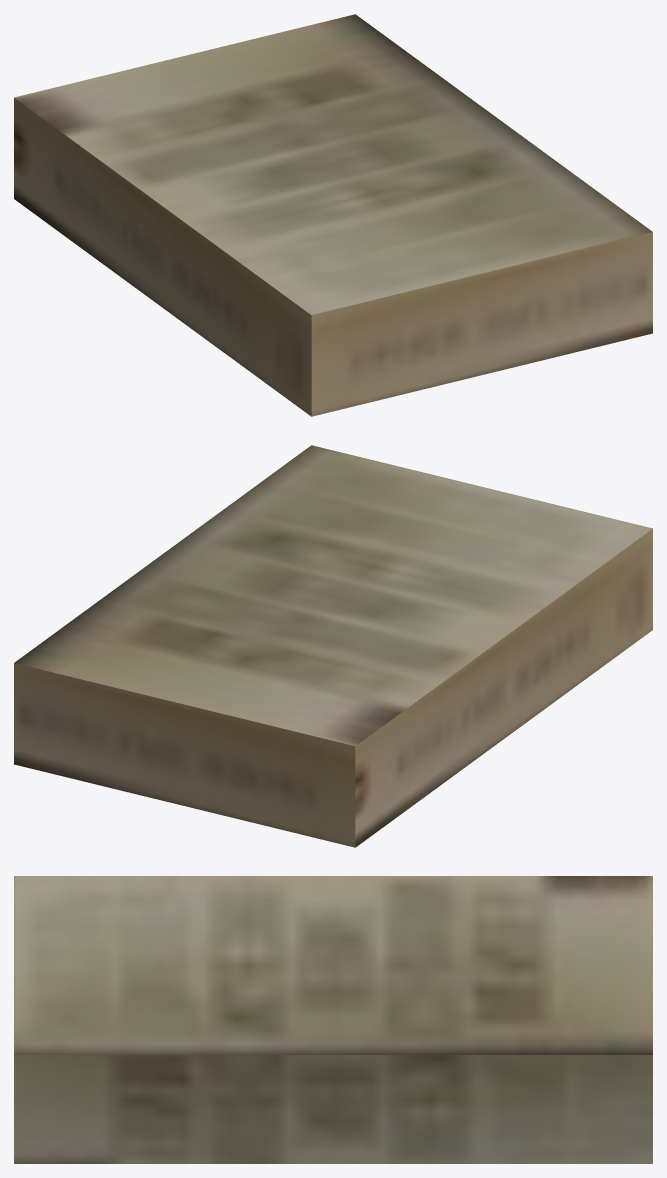
The model's file is Book_03-col.glb.
3 views of the same model, one above another, from view 1: azimuth 30°, elevation 25°; view 2: azimuth 150°, elevation 25°; view 3: azimuth 270°, elevation 25° (orthographic). The views are drawn at different scales.
Visible parts, largest first — view 1: Book_03-col; view 2: Book_03-col; view 3: Book_03-col.
Part boxes in pixels (x1=…): Book_03-col: x1=14, y1=14, x2=652, y2=416; Book_03-col: x1=14, y1=445, x2=652, y2=847; Book_03-col: x1=14, y1=876, x2=652, y2=1163.
Size of the model in its own units: 0.2701 by 0.0767 by 0.4076.
Materials: 1 (1 with a texture image).
